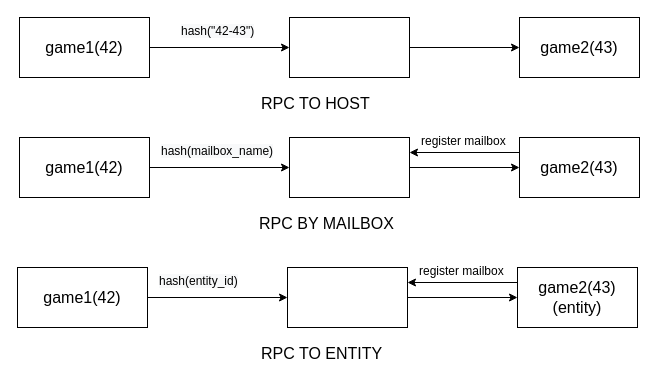
Some shapes in this 657 by 385 pixel diagram are drawn without their labels. The box of each missing label's shape, as (x1, y1, x2, y2) in pixels:
world1: (288, 16, 410, 78)
world1 (entity_stub): (286, 266, 408, 328)
world1 (mailbox): (288, 136, 410, 198)
